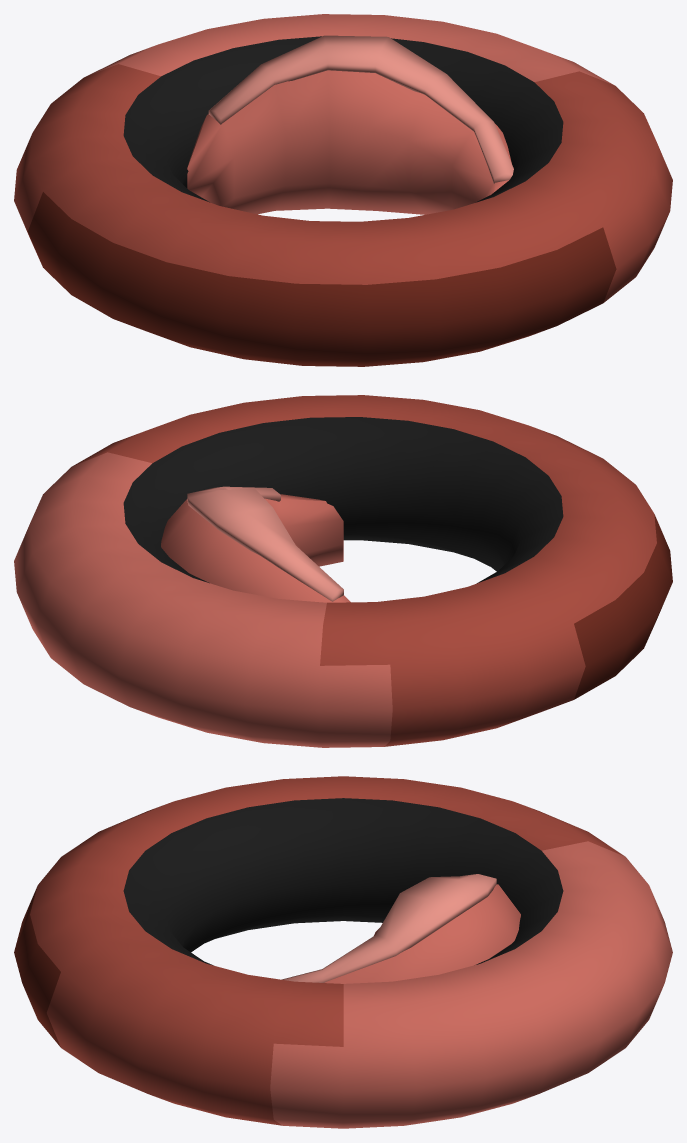
The model's file is newshi-19.glb.
The picture shows the model from 3 angles, top to bottom: view 1: azimuth 30°, elevation 25°; view 2: azimuth 150°, elevation 25°; view 3: azimuth 270°, elevation 25°; orthographic projection.
Visible parts, largest first — view 1: newshi-19; view 2: newshi-19; view 3: newshi-19.
Part boxes in pixels (x1=…): newshi-19: x1=14, y1=14, x2=672, y2=366; newshi-19: x1=14, y1=395, x2=672, y2=747; newshi-19: x1=14, y1=776, x2=672, y2=1128.
Size of the model in its own units: 1.02 by 0.2628 by 1.02.
